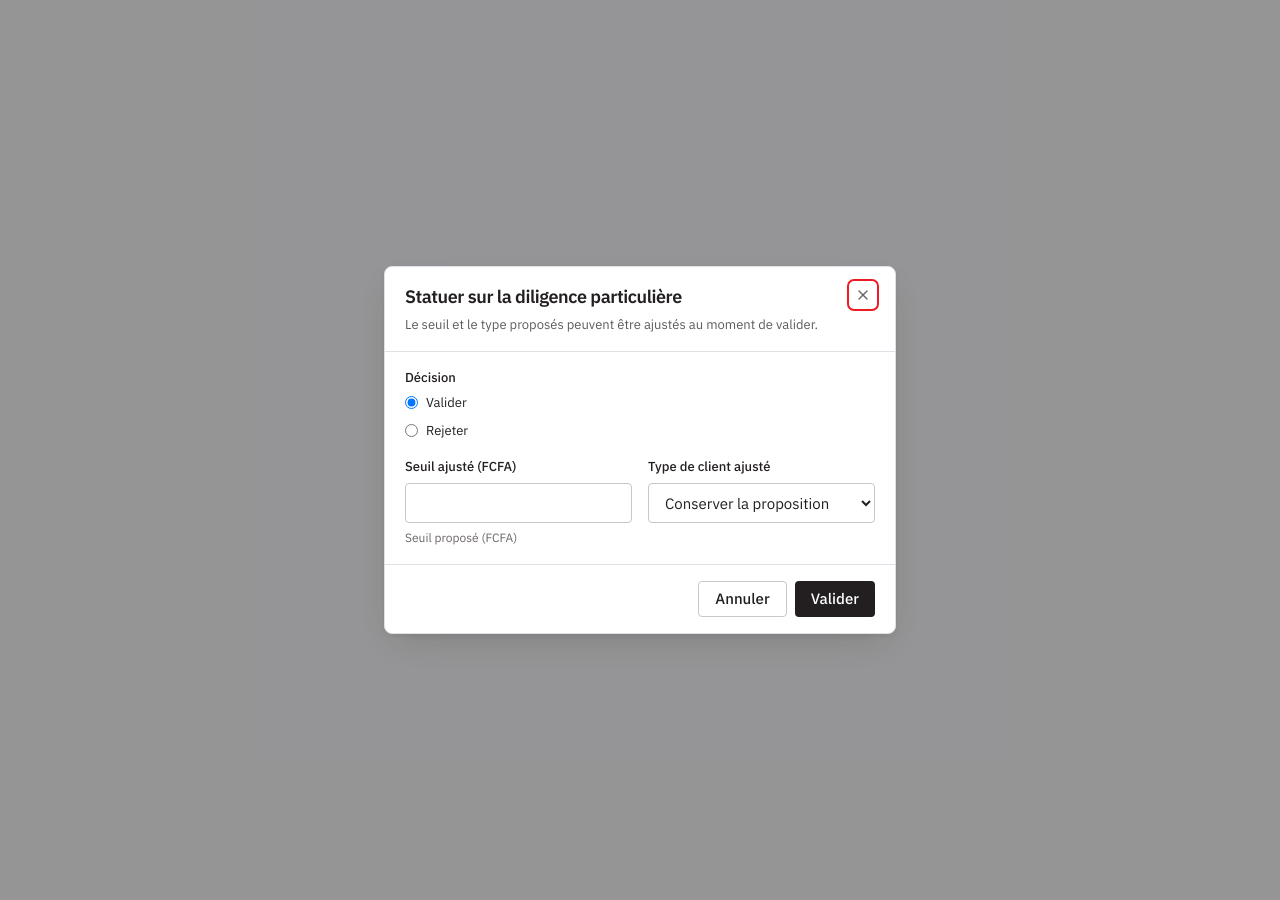
Scenario: ModaleSensibilite › affiche le refus du serveur
Click the button "Valider".
click(835, 599)  # box [795,581,875,617]
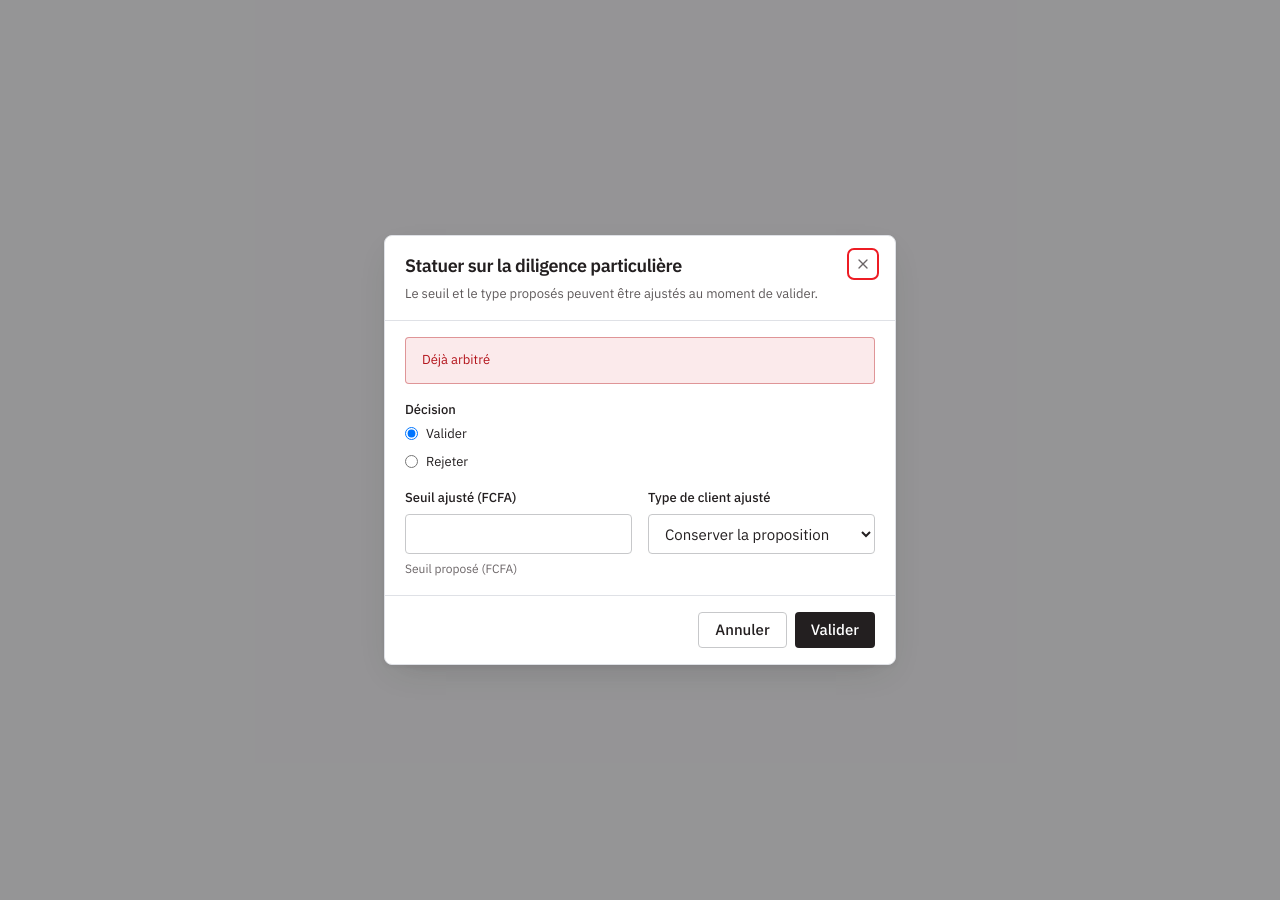
Now the text "Déjà arbitré" is shown, box [405,337,875,384]
